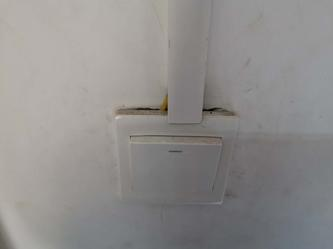switch: (125, 129, 225, 200)
